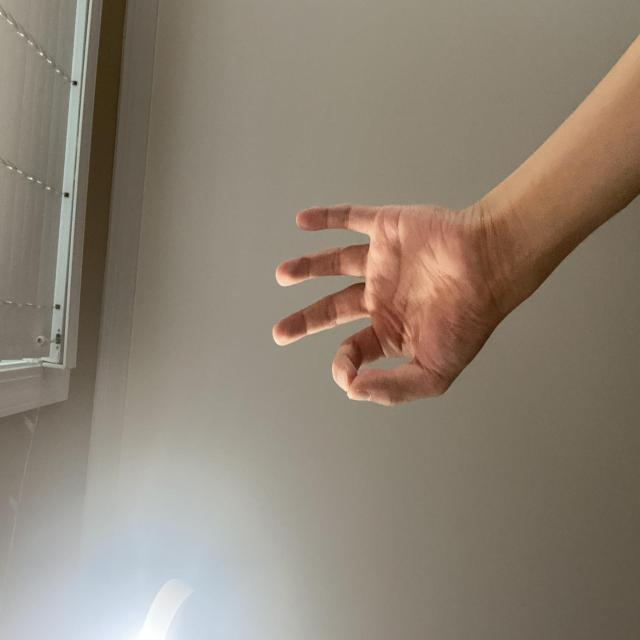F: (171, 355, 334, 640)
